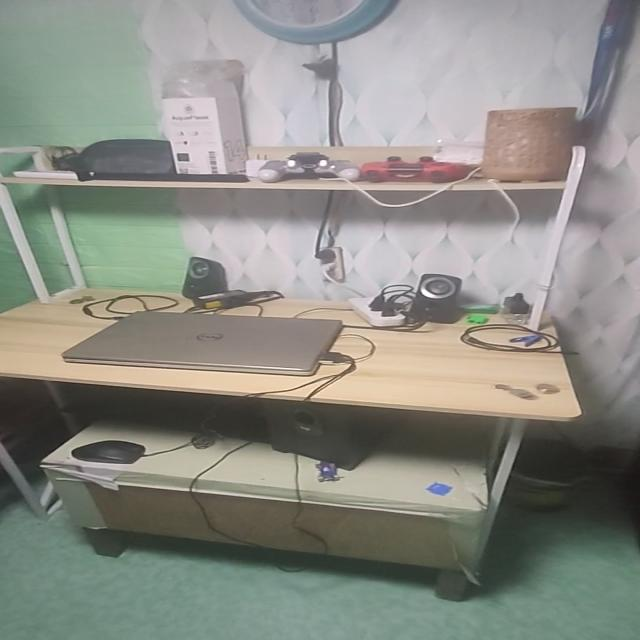table: (0, 279, 612, 609)
